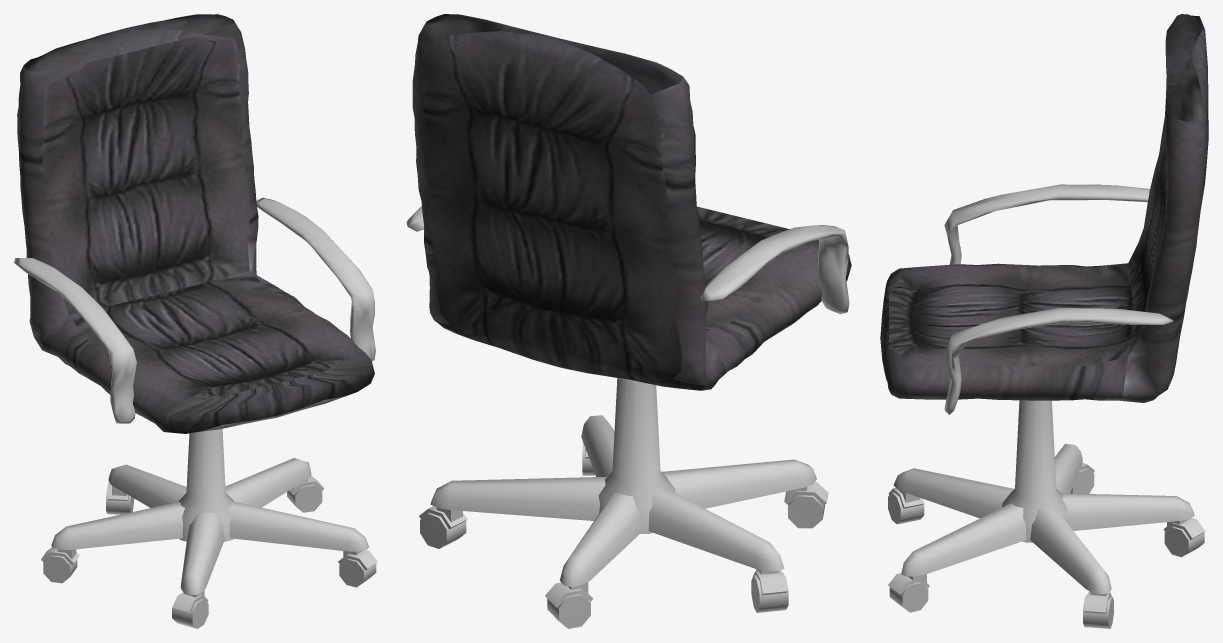
File: ChairOffice01.FBX
The picture shows the model from 3 angles, left to right: view 1: azimuth 30°, elevation 25°; view 2: azimuth 150°, elevation 25°; view 3: azimuth 270°, elevation 25°; orthographic projection. The views are drawn at different scales.
Visible parts, largest first — view 1: Leather, Plastic; view 2: Leather, Plastic; view 3: Leather, Plastic.
Part boxes in pixels (x1,y1,x2,y2): Leather: (17,14,374,433); Plastic: (14,197,377,628); Leather: (412,14,851,390); Plastic: (406,206,849,628); Leather: (880,14,1208,402); Plastic: (888,184,1205,628).
Size of the model in its own units: 10.98 by 17.33 by 10.26.
